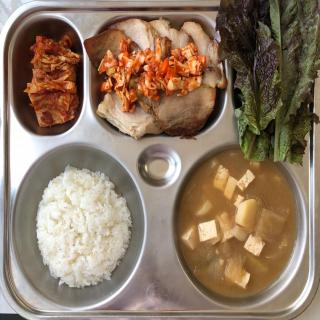Nasi: (35, 168, 130, 289)
